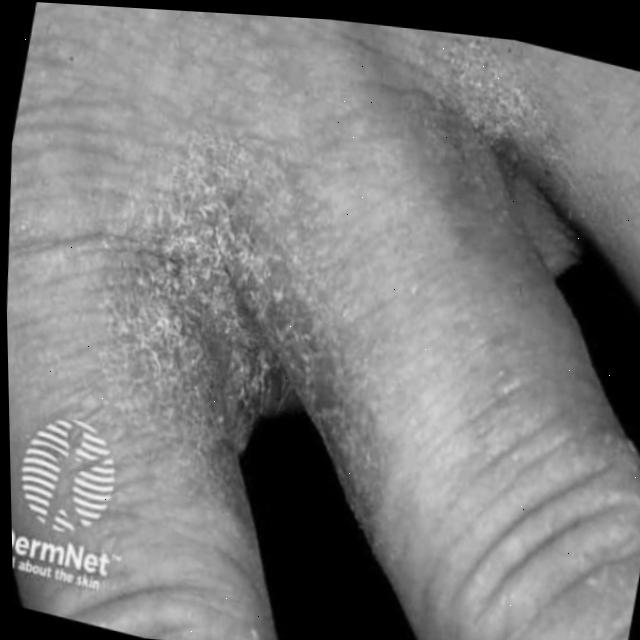Eczema: (101, 160, 385, 509), (449, 51, 542, 168)
